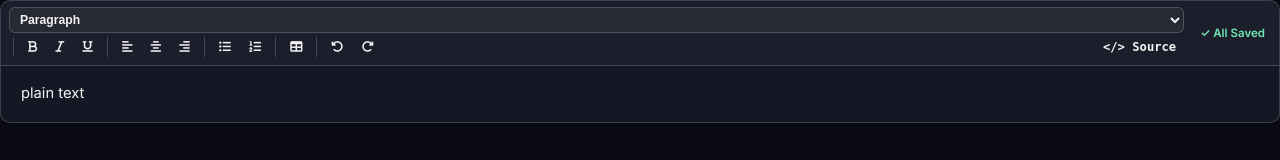
Test case: WysiwygEditor — toolbar formatting actions › toggling Bold flips the toolbar button to active (stored-mark toggle at the current cursor)
Check: the text box "plain text" is shown, box [21,84,84,102]
Click the button with test id "editor-bold-btn" at (33, 47), box [20,36,45,58]
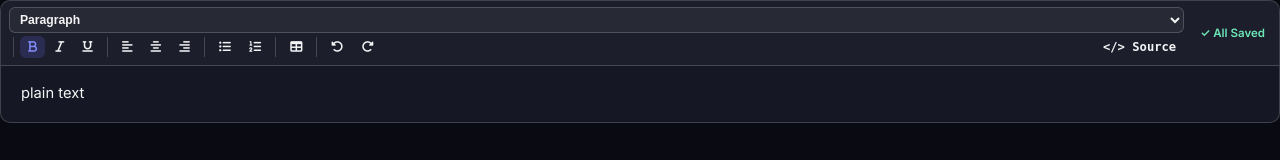
Check: the button with test id "editor-bold-btn" has class "active", box [20,36,45,58]
